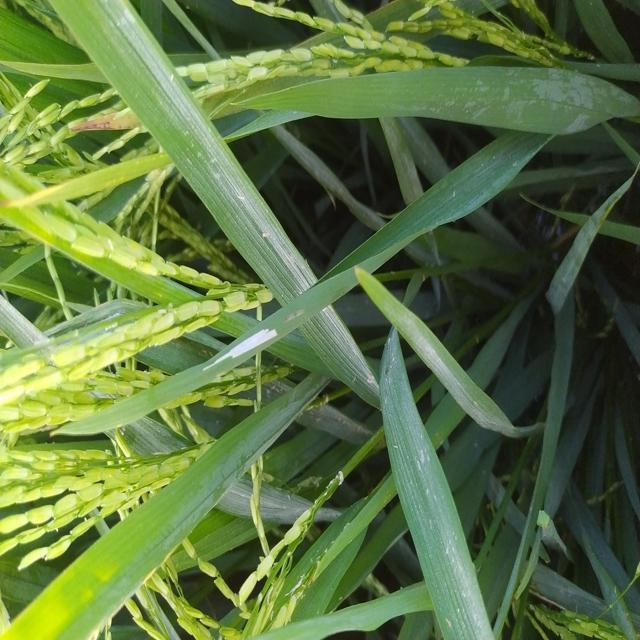brown plant hopper: (186, 303, 309, 380)
